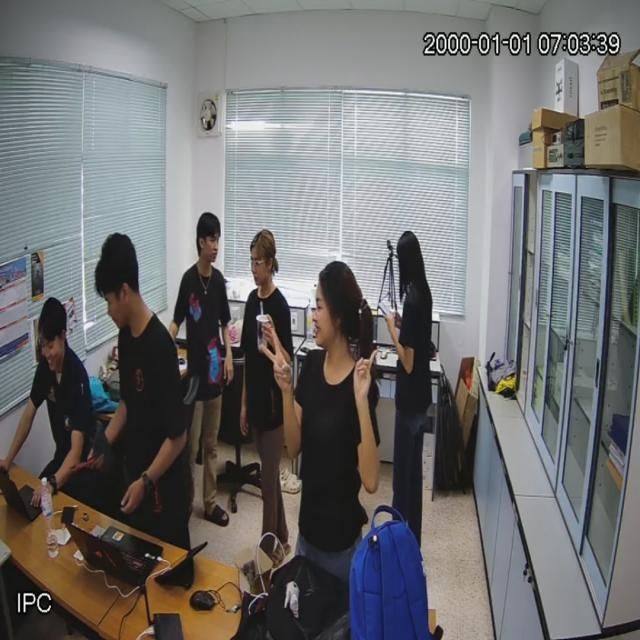normal: (89, 234, 181, 540), (290, 258, 375, 571), (184, 210, 234, 528), (11, 298, 91, 492), (243, 230, 289, 558), (387, 233, 433, 526)
